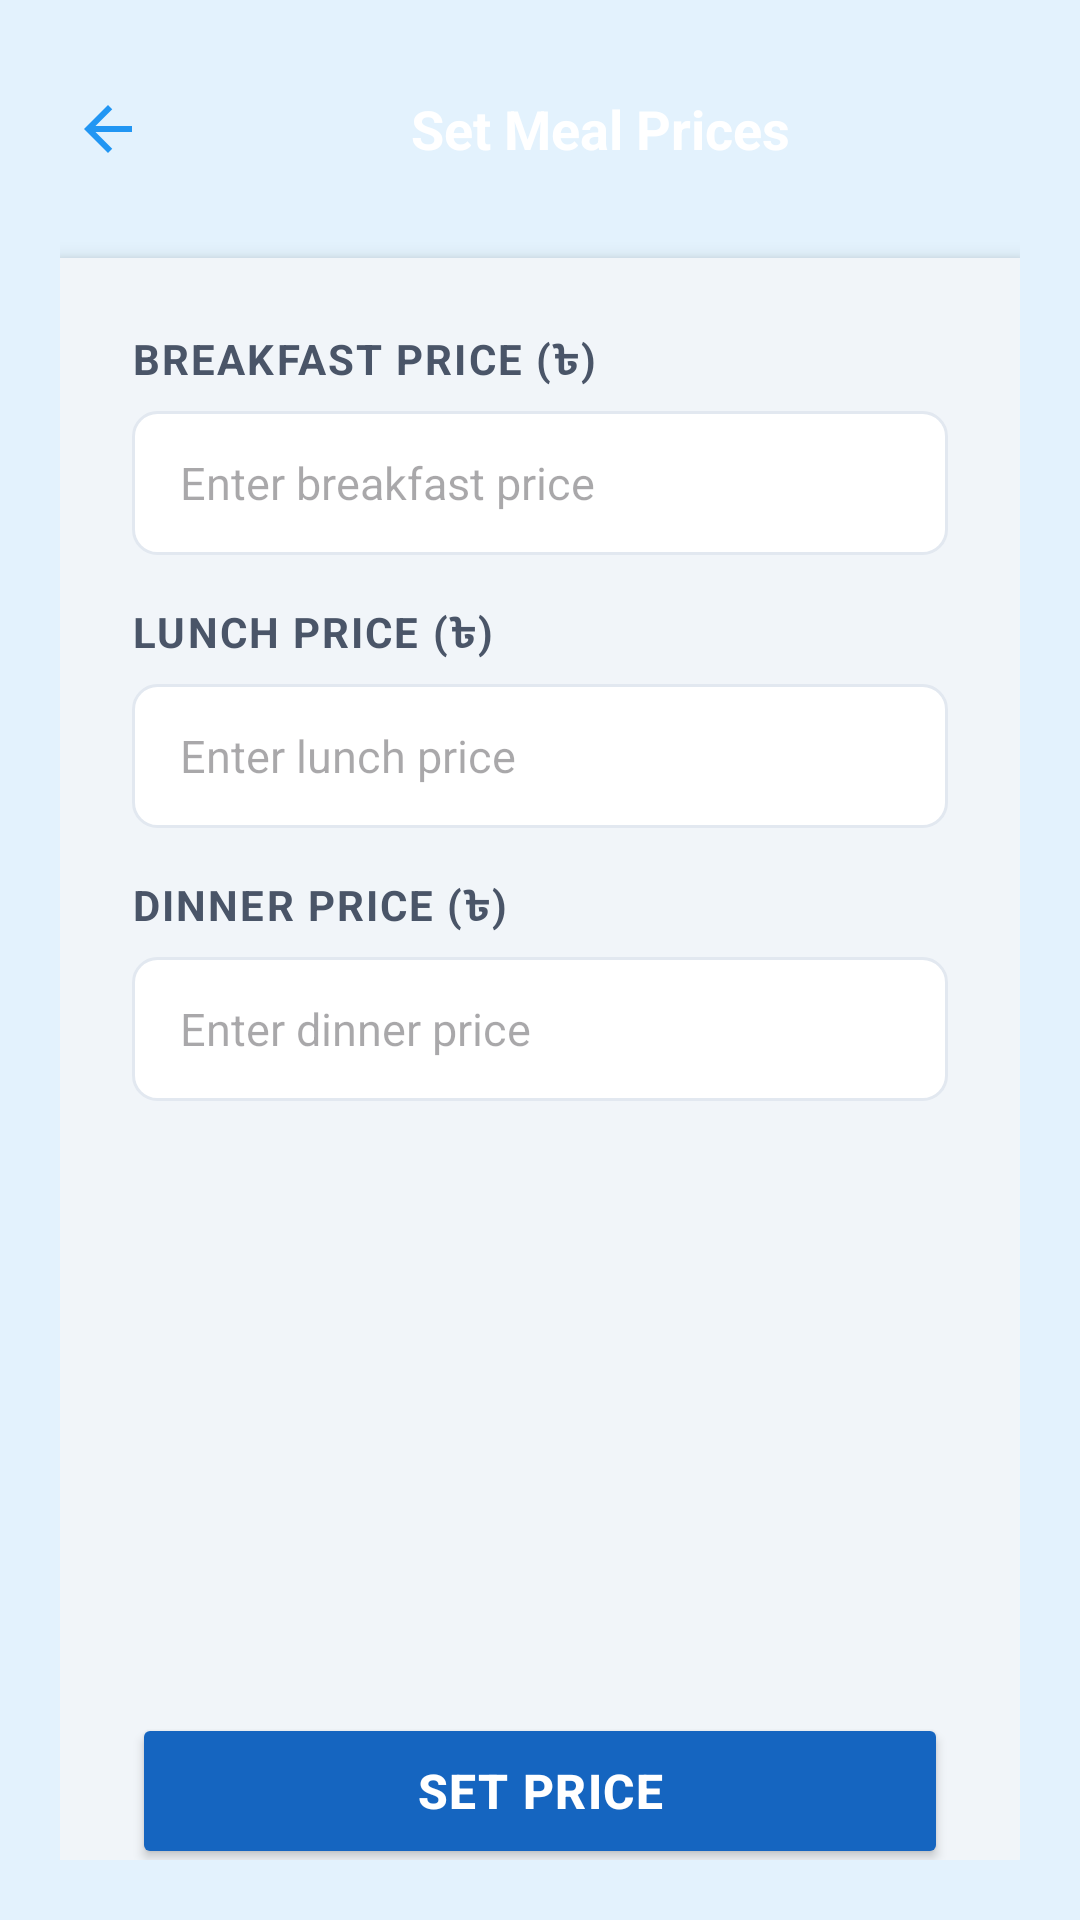

Screen size 1080x1920. Icon name, then its center in pixels as point (x, y):
arrow back: point (108, 129)
